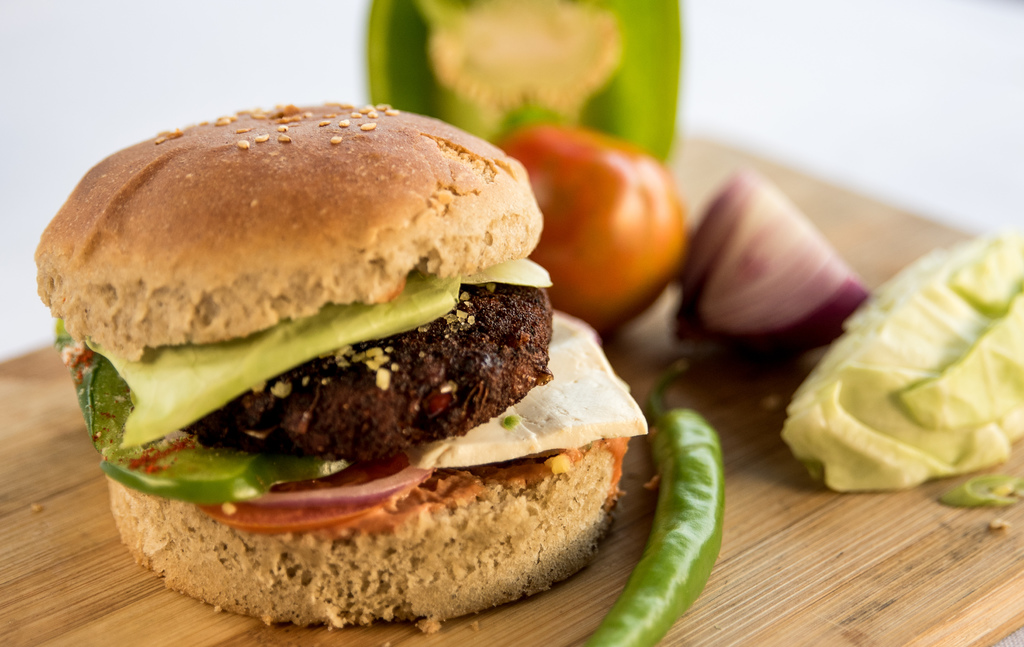Hamburger: (35, 104, 647, 629)
